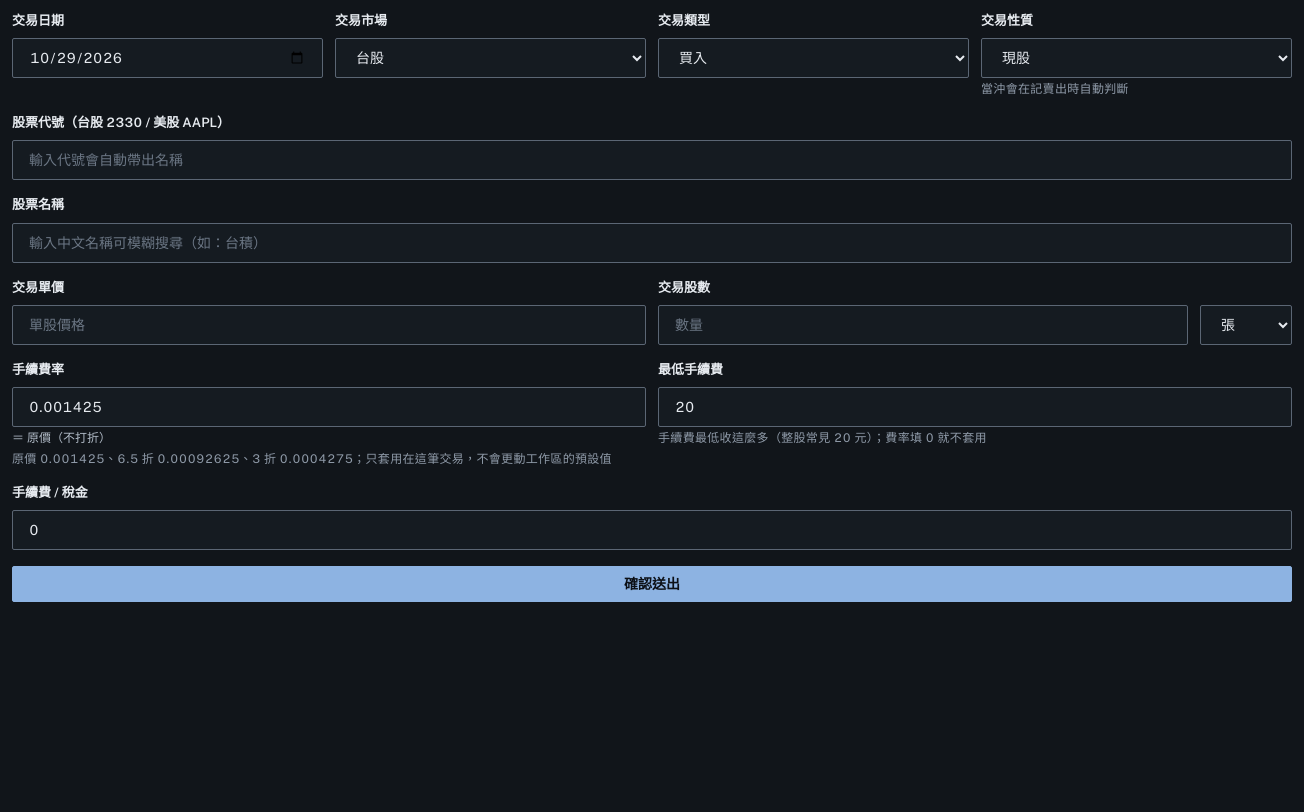
Test: TransactionForm 名稱搜尋載入指示 › S1: 第一個按鍵就顯示轉圈，不必等 300ms 去抖動
Type "台" into the field labelled "股票名稱".
click(652, 242); type("台")  # box x1=12 y1=222 x2=1292 y2=262
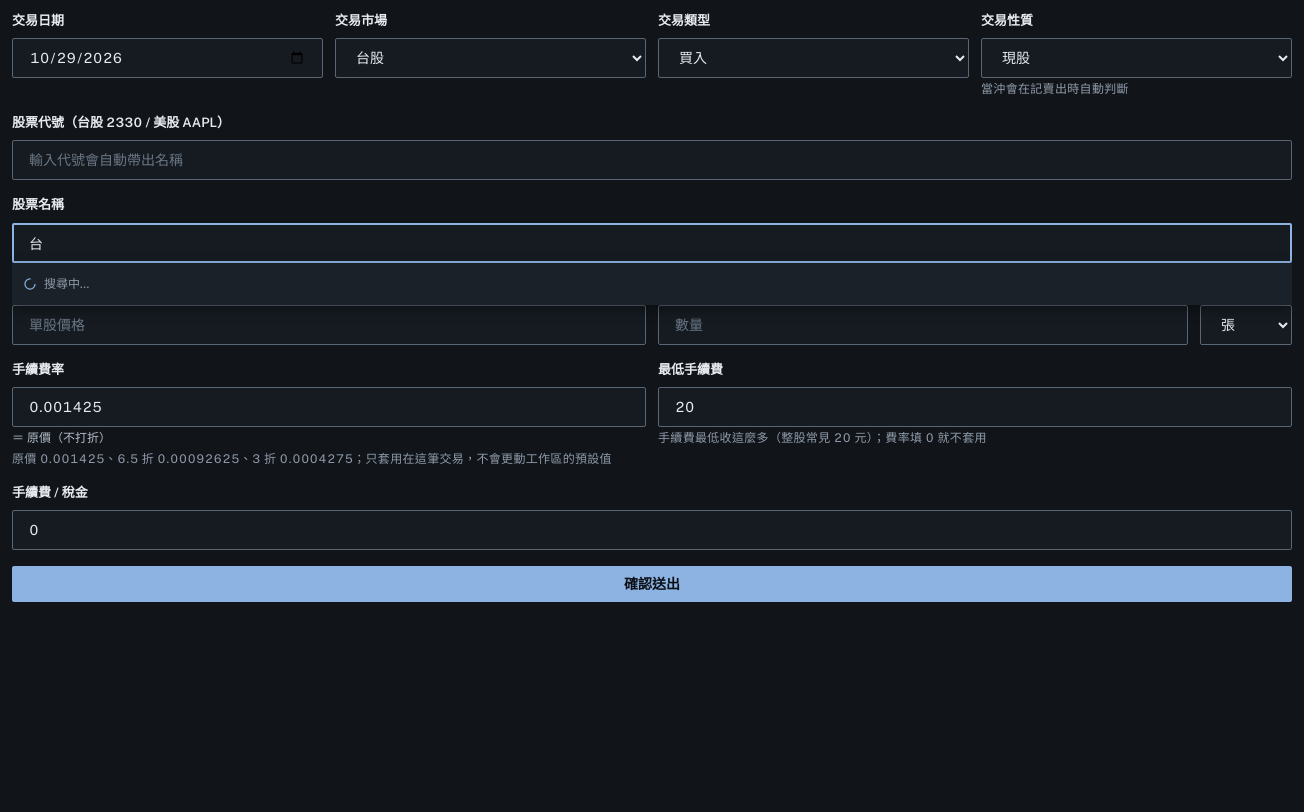
Expected: the message "搜尋中…" is shown, x1=24 y1=276 x2=89 y2=290
Expected: the message with test id "name-search-loading" shows "搜尋中", x1=44 y1=276 x2=89 y2=290
Expected: the icon with class "cds-spinner" is shown, x1=24 y1=278 x2=36 y2=290
